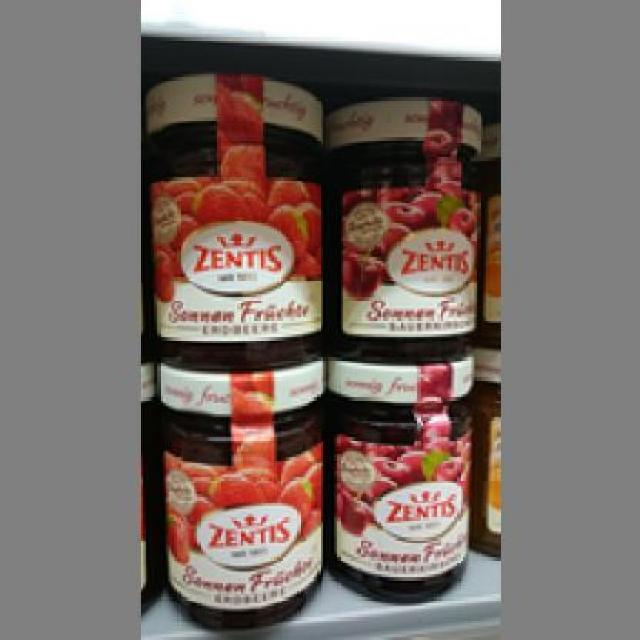Jam: (140, 68, 329, 372), (154, 360, 326, 629), (323, 94, 486, 357), (323, 354, 474, 603)
